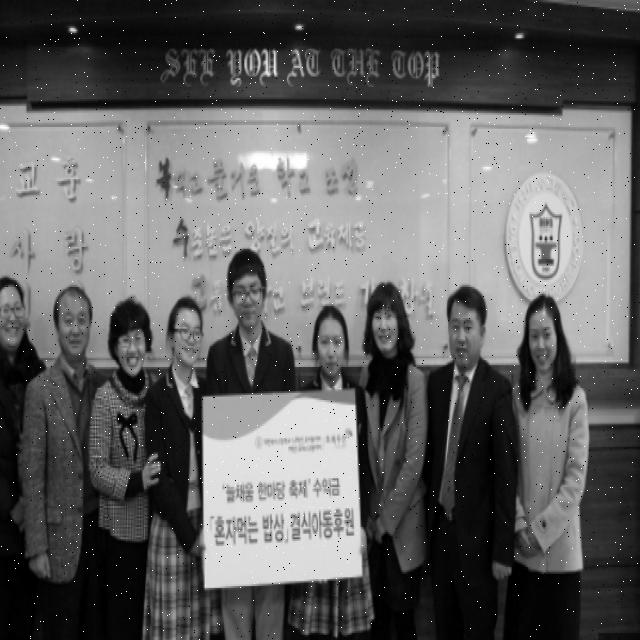logo: (501, 163, 591, 315)
